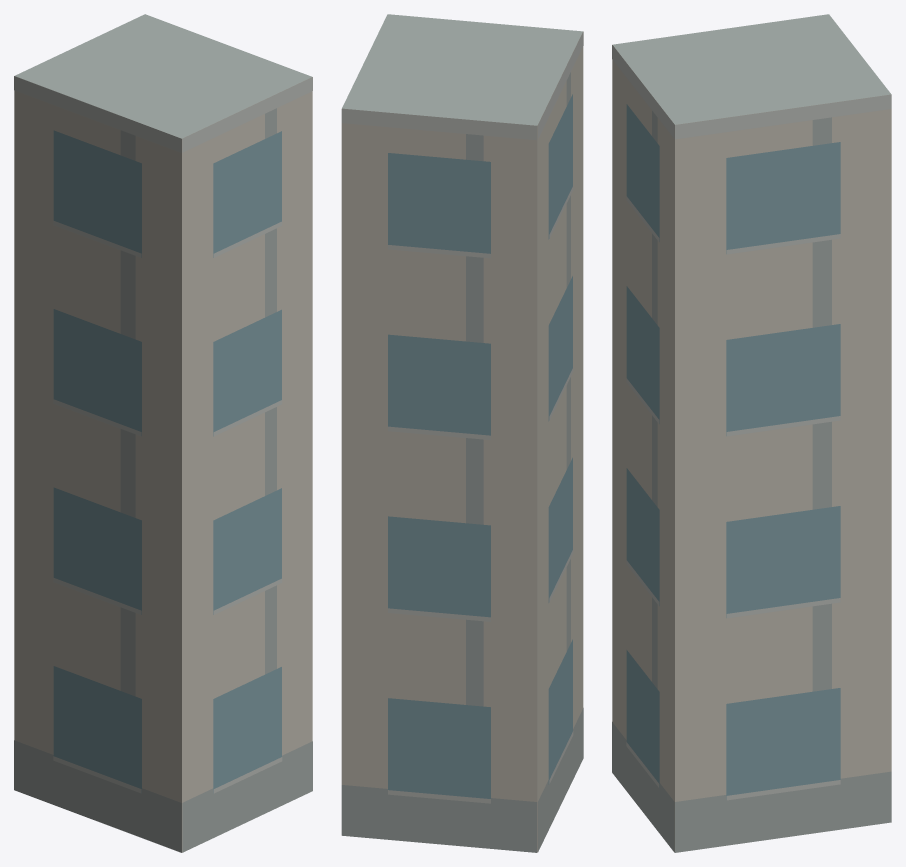
Rendered from survey-upis-32645580.glb.
3 views of the same model, side by side, from view 1: azimuth 30°, elevation 25°; view 2: azimuth 150°, elevation 25°; view 3: azimuth 270°, elevation 25° (orthographic).
Parts seen in each view (by area): view 1: survey-upis-32645580.tmp; view 2: survey-upis-32645580.tmp; view 3: survey-upis-32645580.tmp.
Boxes of the visible parts, x1,y1,x2,y2 form: survey-upis-32645580.tmp: (14,14,312,852); survey-upis-32645580.tmp: (341,14,583,852); survey-upis-32645580.tmp: (612,14,891,852).
Bounding box in the file's own units: 3.99 × 12.2 × 4.25.
